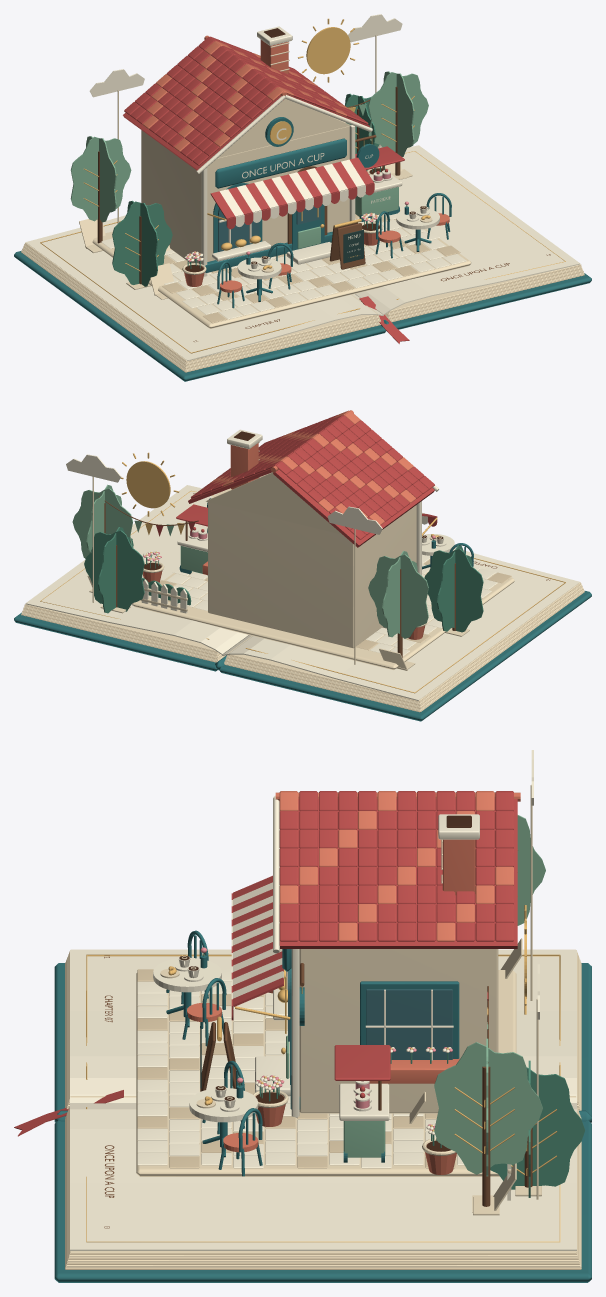
Rendered from cafe.glb.
3 views of the same model, one above another, from view 1: azimuth 30°, elevation 25°; view 2: azimuth 150°, elevation 25°; view 3: azimuth 270°, elevation 25° (orthographic). The views are drawn at different scales.
Visible parts, largest first — view 1: Paper / Buttermilk cardstock, Paper / Warm ivory paper, Paper / Berry red, Paper / Deep teal cloth binding, Paper / Sage green, Paper / Vanilla page edges, Paper / Terracotta, Paper / Forest paper, Paper / Ochre foil, Paper / Walnut trim, Paper / Midnight blue window, Paper / Chalkboard (+1 smaller); view 2: Paper / Warm ivory paper, Paper / Buttermilk cardstock, Paper / Berry red, Paper / Forest paper, Paper / Sage green, Paper / Deep teal cloth binding, Paper / Vanilla page edges, Paper / Terracotta, Paper / Ochre foil, Paper / Walnut trim; view 3: Paper / Buttermilk cardstock, Paper / Warm ivory paper, Paper / Berry red, Paper / Deep teal cloth binding, Paper / Sage green, Paper / Vanilla page edges, Paper / Terracotta, Paper / Midnight blue window, Paper / Forest paper, Paper / Ochre foil, Paper / Walnut trim, Paper / Coffee.
Part boxes in pixels (bbox=[...]): Paper / Buttermilk cardstock: bbox=[26, 14, 580, 361]; Paper / Warm ivory paper: bbox=[21, 35, 584, 371]; Paper / Berry red: bbox=[123, 36, 409, 343]; Paper / Deep teal cloth binding: bbox=[14, 117, 591, 381]; Paper / Sage green: bbox=[70, 71, 428, 248]; Paper / Vanilla page edges: bbox=[21, 214, 584, 372]; Paper / Terracotta: bbox=[143, 35, 449, 292]; Paper / Forest paper: bbox=[112, 93, 407, 286]; Paper / Ochre foil: bbox=[40, 18, 565, 353]; Paper / Walnut trim: bbox=[97, 86, 550, 341]; Paper / Midnight blue window: bbox=[218, 206, 320, 251]; Paper / Chalkboard: bbox=[343, 229, 363, 263]; Paper / Warm ivory paper: bbox=[21, 442, 584, 711]; Paper / Buttermilk cardstock: bbox=[25, 418, 579, 700]; Paper / Berry red: bbox=[156, 415, 437, 547]; Paper / Forest paper: bbox=[84, 527, 483, 632]; Paper / Sage green: bbox=[72, 484, 428, 638]; Paper / Deep teal cloth binding: bbox=[14, 498, 591, 721]; Paper / Vanilla page edges: bbox=[21, 559, 584, 712]; Paper / Terracotta: bbox=[143, 410, 425, 639]; Paper / Ochre foil: bbox=[40, 452, 565, 693]; Paper / Walnut trim: bbox=[98, 493, 550, 657]; Paper / Buttermilk cardstock: bbox=[70, 750, 576, 1250]; Paper / Warm ivory paper: bbox=[65, 784, 581, 1267]; Paper / Berry red: bbox=[14, 791, 517, 1136]; Paper / Deep teal cloth binding: bbox=[54, 930, 591, 1282]; Paper / Sage green: bbox=[286, 815, 545, 1176]; Paper / Vanilla page edges: bbox=[65, 951, 581, 1269]; Paper / Terracotta: bbox=[187, 791, 520, 1174]; Paper / Midnight blue window: bbox=[288, 970, 452, 1059]; Paper / Forest paper: bbox=[203, 953, 585, 1197]; Paper / Ochre foil: bbox=[86, 896, 560, 1242]; Paper / Walnut trim: bbox=[104, 955, 532, 1228]; Paper / Coffee: bbox=[179, 815, 471, 1151].
Bounding box in the file's own units: 12.28 × 5.85 × 9.58.
